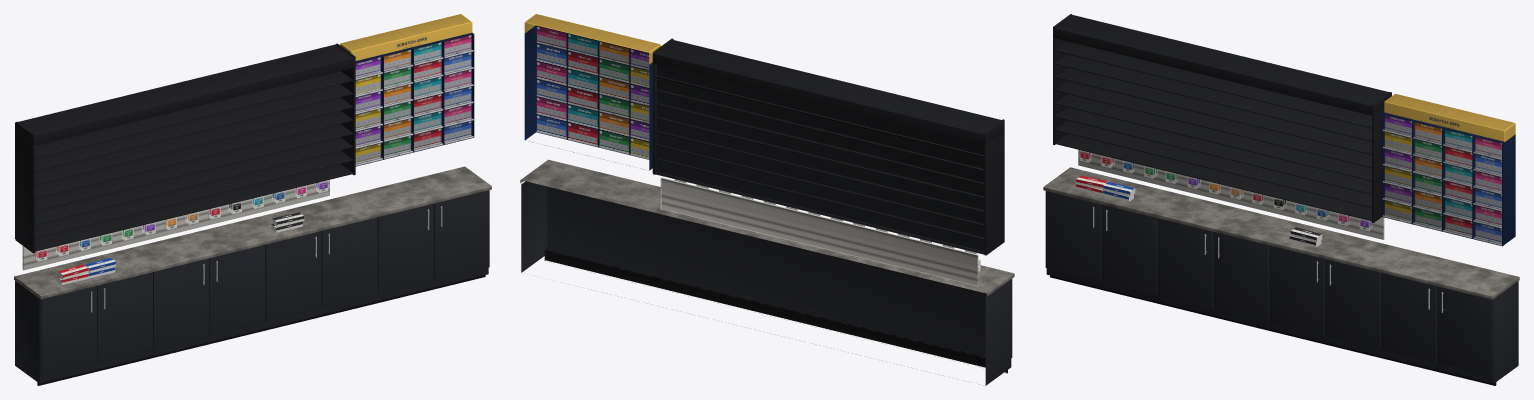
File: SM_Stock_BackBar.glb
The picture shows the model from 3 angles, left to right: view 1: azimuth 30°, elevation 25°; view 2: azimuth 150°, elevation 25°; view 3: azimuth 330°, elevation 25°; orthographic projection. The views are drawn at different scales.
Visible parts, largest first — view 1: SM_Stock_BackBar; view 2: SM_Stock_BackBar; view 3: SM_Stock_BackBar.
Boxes of the visible parts, x1,y1,x2,y2 form: SM_Stock_BackBar: (14,14,491,385); SM_Stock_BackBar: (520,14,1014,385); SM_Stock_BackBar: (1043,14,1519,385).
Bounding box in the file's own units: 4.62 × 2.43 × 0.4873.
Materials: 1 (1 with a texture image).
